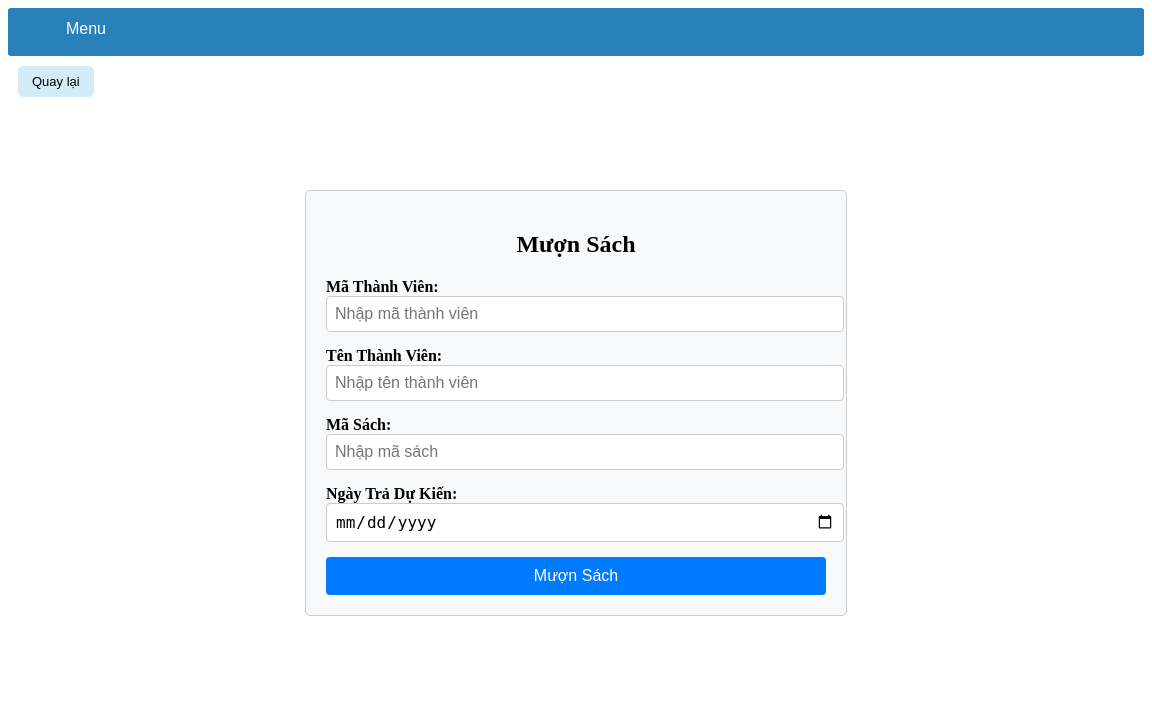
it: Mượn sách › TC_012 - Mượn sách không thành công (Thành viên chưa đăng ký)
The width and height of the screenshot is (1152, 720).
// Nhập thông tin thành viên không tồn tại
Type "9999" into the number field named "thanhVienId" at (585, 314), box [326,296,844,332]
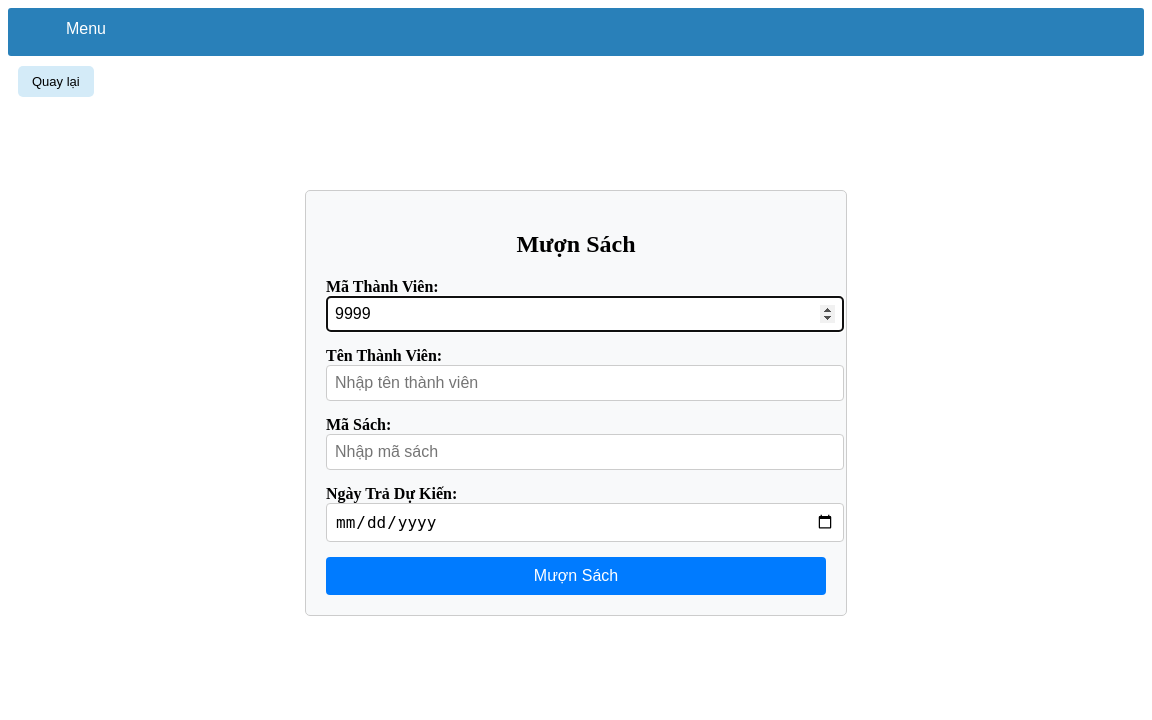
Type "Không Tồn Tại" into the field named "tenThanhVien" at (585, 383), box [326,365,844,401]
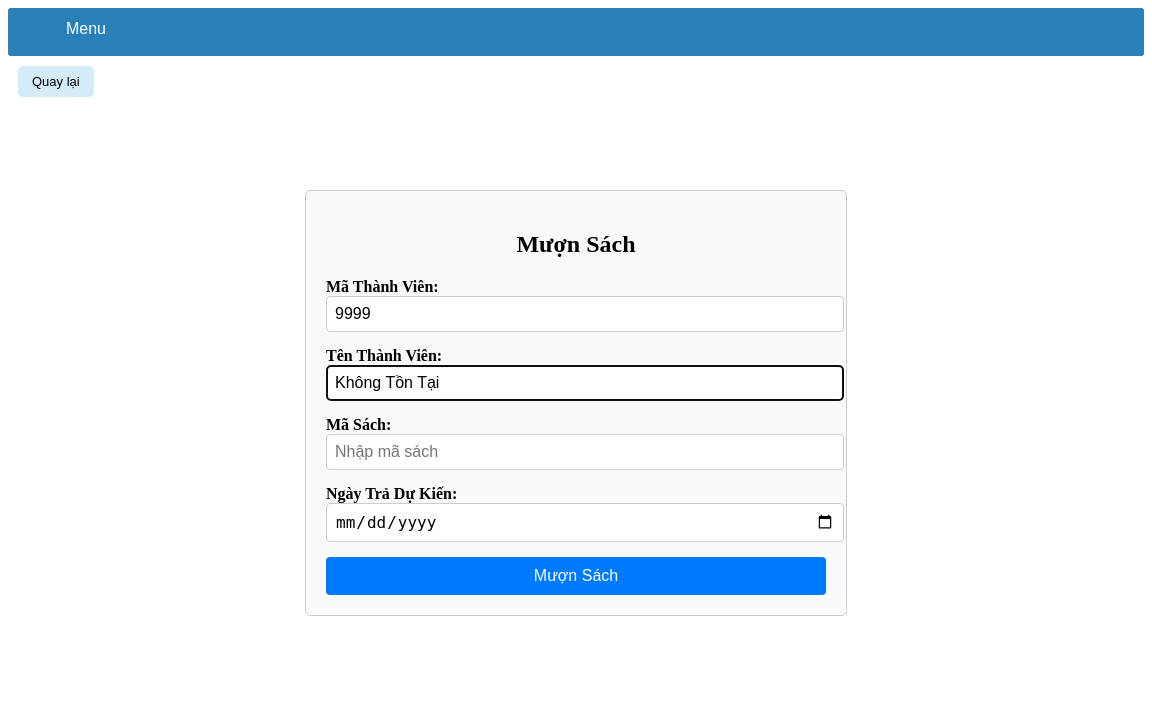
Type "2001" into the number field named "sachId" at (585, 452), box [326,434,844,470]
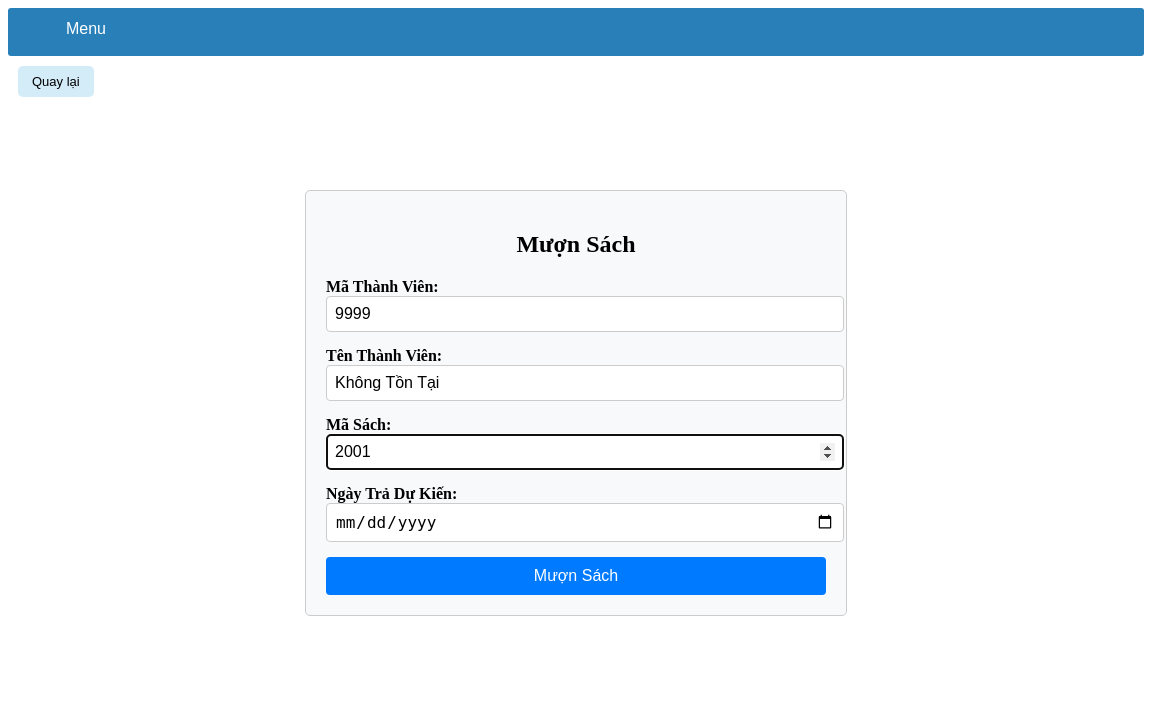
Type "2025-03-20" into the date field named "ngayTraDuKien" at (585, 523), box [326,503,844,542]
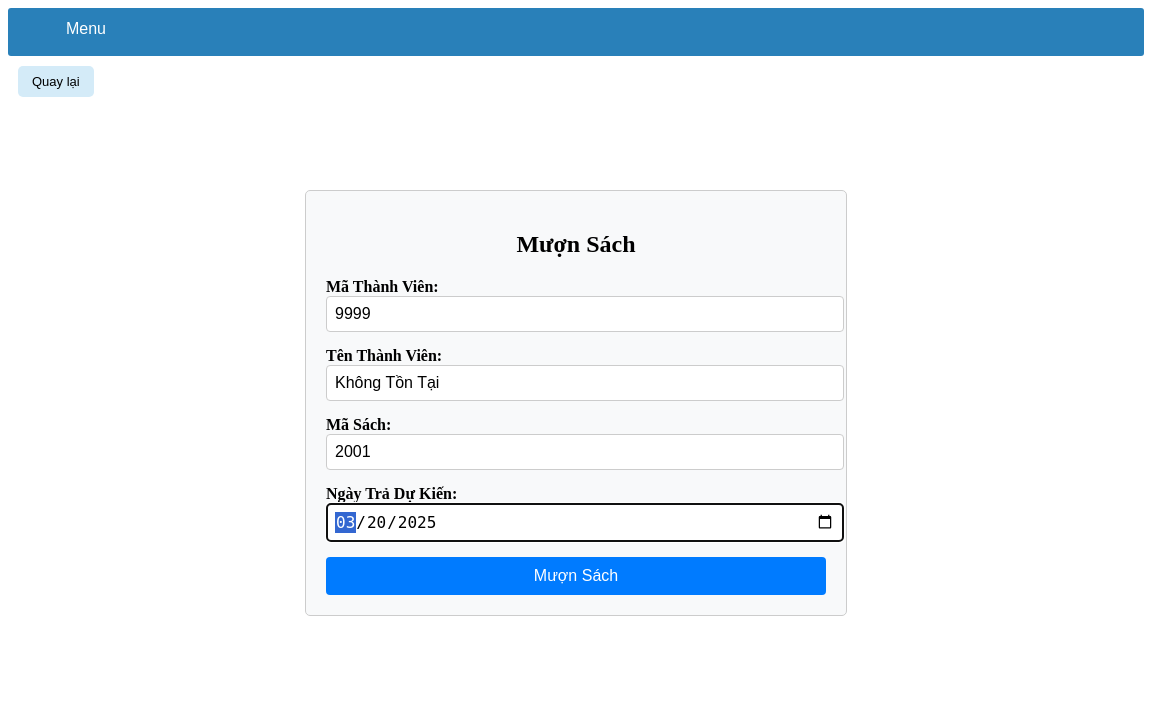
// Nhấn nút "Mượn Sách"
Click the button "Mượn Sách" at (576, 576), box [326,557,826,595]
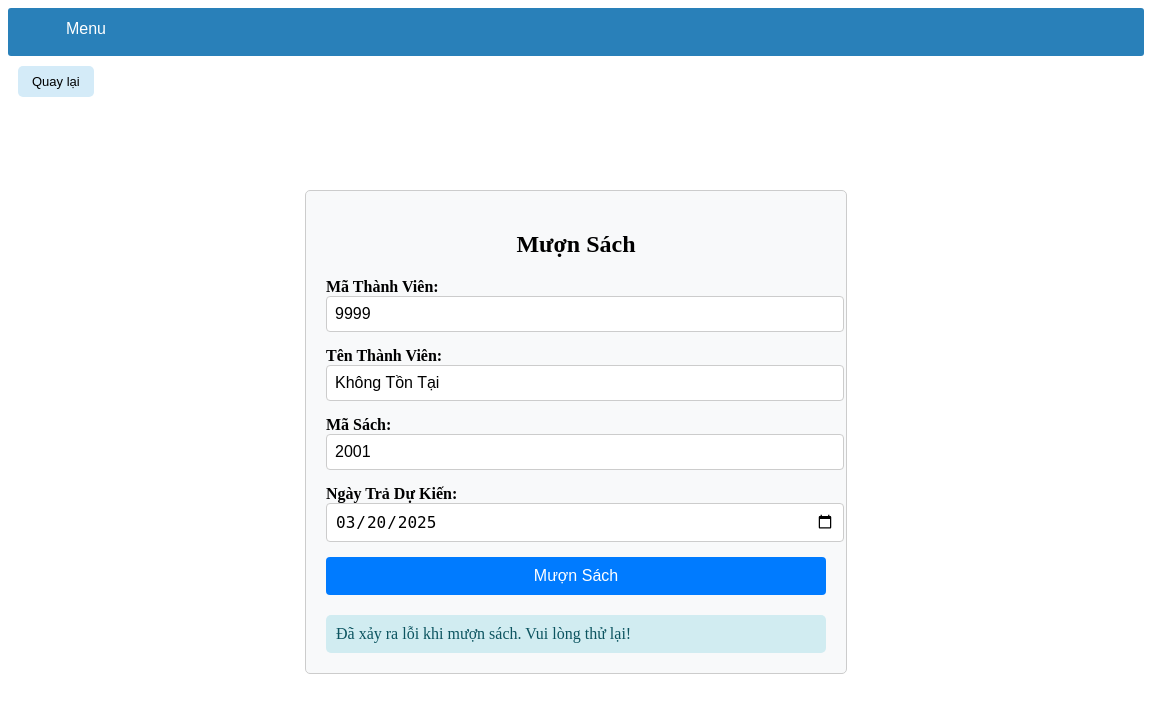
Check: the text "Đã xảy ra lỗi khi mượn sách. Vui lòng thử lại!" is shown, box [326,615,826,653]
